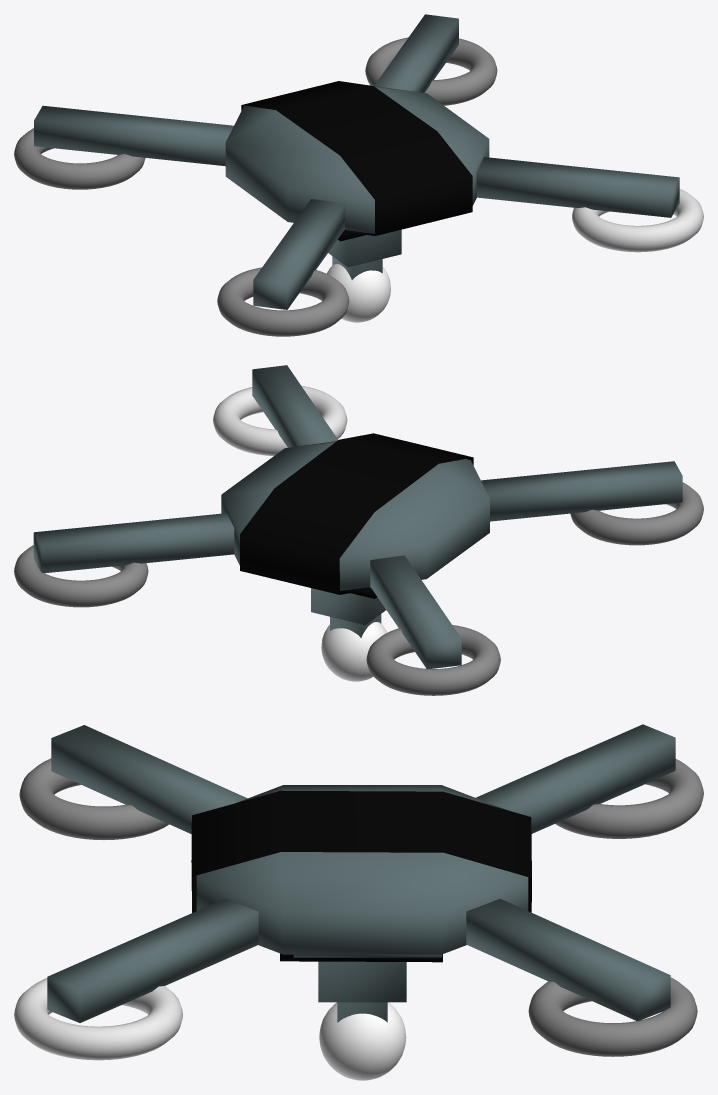
The model's file is DroneBlender4.glb.
The picture shows the model from 3 angles, top to bottom: view 1: azimuth 30°, elevation 25°; view 2: azimuth 150°, elevation 25°; view 3: azimuth 270°, elevation 25°; orthographic projection. The views are drawn at different scales.
Visible parts, largest first — view 1: rullebånd, krop, venstrebagarm.001, højrearm., venstrebagarm, højrebagrind, venstrebagrind, venstrearm, højrering, venstrering, pæren; view 2: rullebånd, krop, venstrearm, venstrebagarm, højrearm., højrering, venstrebagarm.001, venstrering, venstrebagrind, højrebagrind, pæren; view 3: krop, rullebånd, venstrebagarm.001, venstrearm, højrearm., venstrebagarm, venstrebagrind, venstrering, højrebagrind, højrering, pæren.
Part boxes in pixels (box(x1,y1,x2,y2)): rullebånd: box(241, 81, 472, 241); krop: box(225, 86, 489, 279); venstrebagarm.001: box(476, 157, 679, 217); højrearm.: box(34, 105, 233, 166); venstrebagarm: box(253, 199, 344, 309); højrebagrind: box(217, 267, 349, 336); venstrebagrind: box(572, 189, 703, 252); venstrearm: box(374, 14, 458, 92); højrering: box(14, 128, 145, 189); venstrering: box(365, 37, 497, 105); pæren: box(327, 264, 390, 322); rullebånd: box(240, 433, 473, 598); krop: box(221, 441, 489, 637); venstrearm: box(33, 513, 234, 573); venstrebagarm: box(481, 461, 682, 521); højrearm.: box(370, 555, 461, 668); højrering: box(366, 625, 500, 695); venstrebagarm.001: box(252, 365, 337, 447); venstrering: box(14, 545, 148, 607); venstrebagrind: box(213, 385, 347, 455); højrebagrind: box(570, 482, 703, 545); pæren: box(321, 622, 386, 681); krop: box(196, 785, 528, 1022); rullebånd: box(191, 790, 531, 962); venstrebagarm.001: box(47, 899, 258, 1022); venstrearm: box(466, 898, 670, 1020); højrearm.: box(476, 724, 675, 833); venstrebagarm: box(51, 725, 247, 833); venstrebagrind: box(14, 978, 182, 1060); venstrering: box(528, 977, 697, 1056); højrebagrind: box(19, 758, 168, 839); højrering: box(555, 755, 703, 838); pæren: box(319, 1002, 406, 1080).
Size of what is drawn, in the model's own units: 10.24 by 4.16 by 10.2.
Materials: 4 (1 with a texture image).
